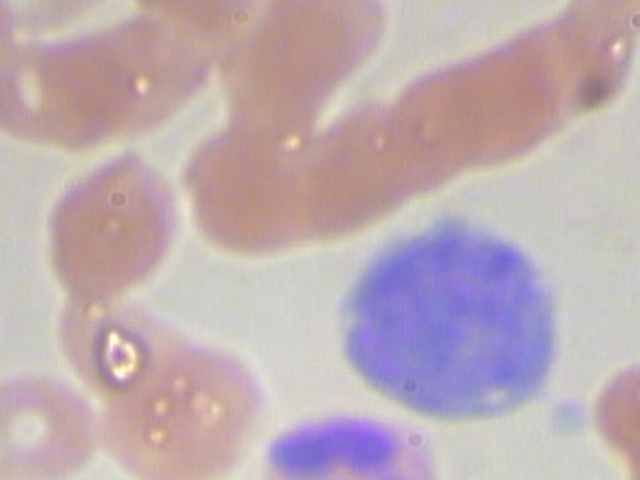Platelets: (541, 393, 594, 446)
RBC: (8, 151, 187, 319), (115, 332, 269, 475), (210, 15, 339, 142), (386, 60, 502, 194), (318, 96, 434, 230), (444, 37, 560, 170), (487, 16, 602, 150), (0, 350, 115, 480), (29, 22, 143, 148), (533, 0, 640, 115), (0, 23, 74, 150), (582, 331, 640, 465), (604, 414, 640, 480)
WBC: (307, 211, 568, 425), (253, 413, 454, 480)
